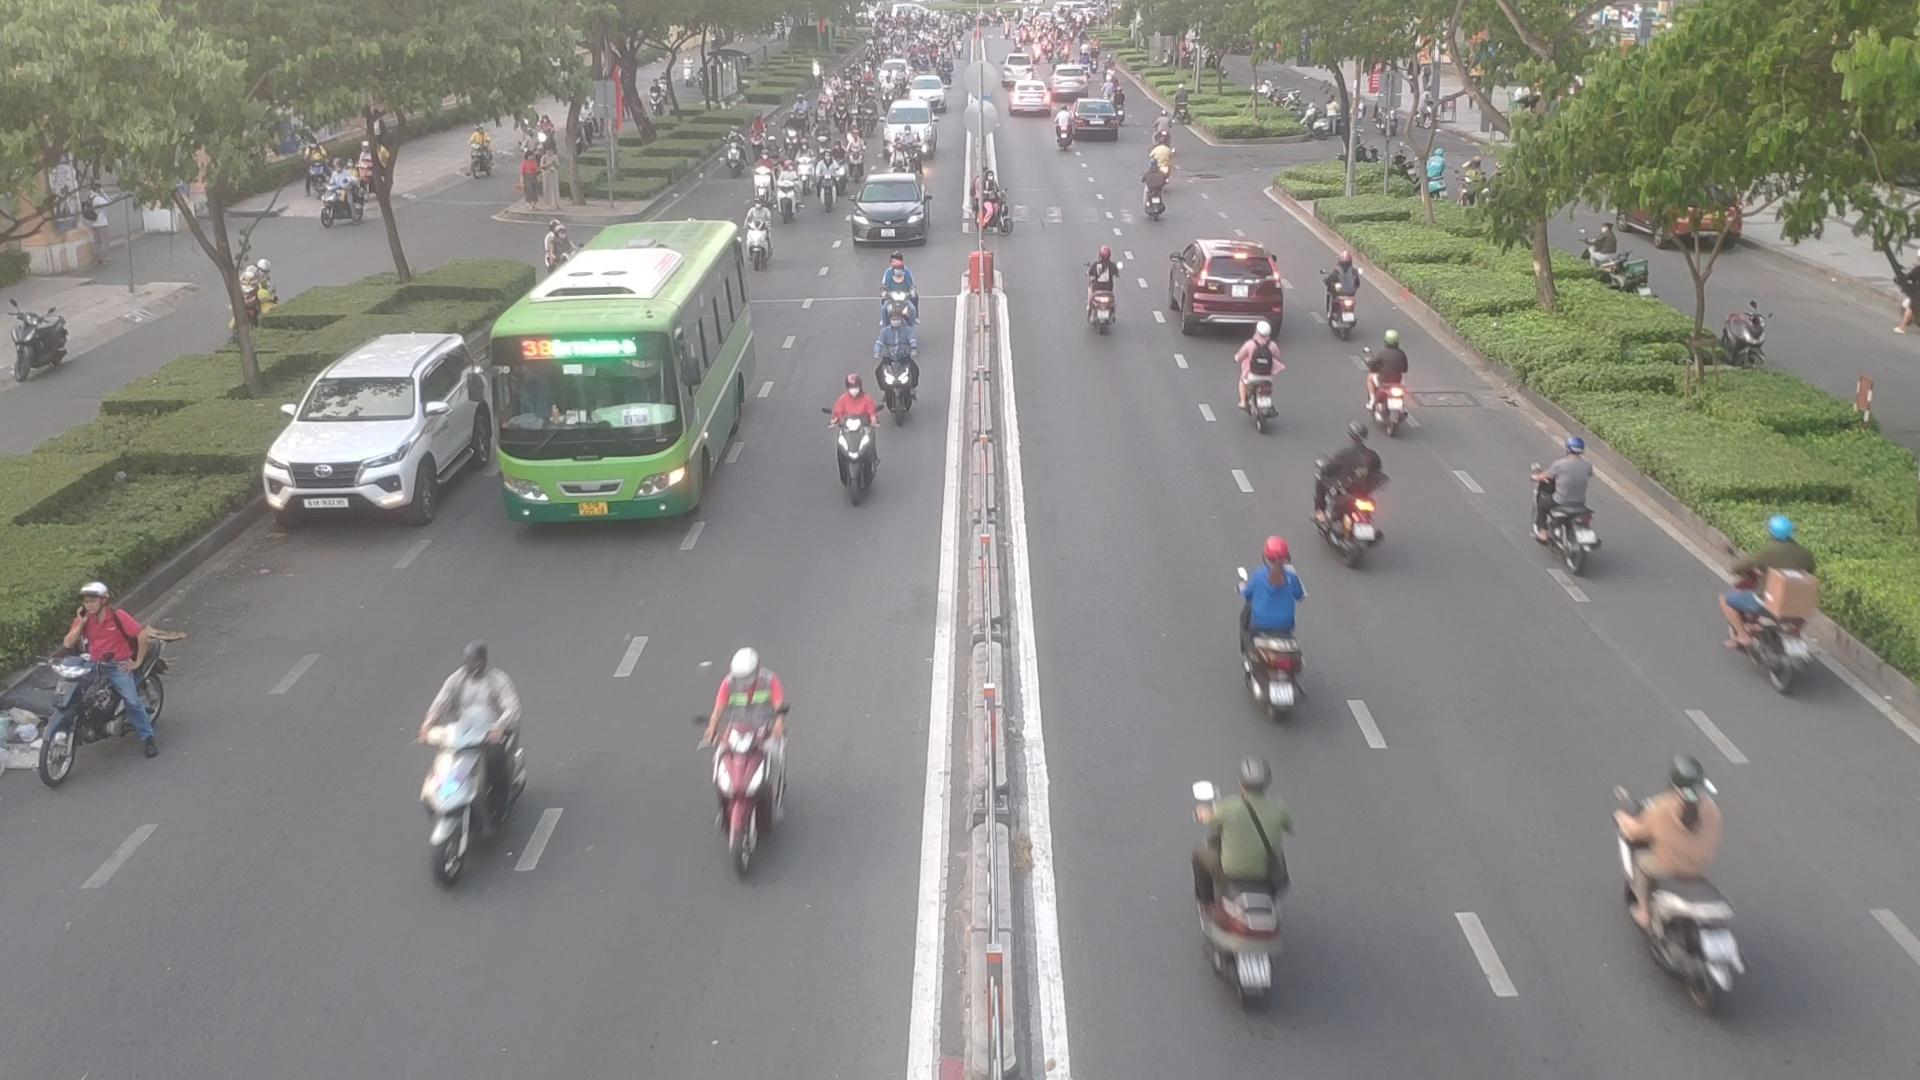car: (487, 228, 762, 533), (266, 332, 516, 527), (1164, 240, 1284, 338), (844, 174, 930, 248)
motorbike: (1615, 741, 1762, 1009), (1174, 750, 1309, 1025), (407, 650, 530, 884), (1706, 520, 1873, 688), (22, 585, 167, 771), (690, 651, 793, 869), (1229, 550, 1317, 702), (1307, 429, 1387, 560), (1534, 438, 1611, 567), (823, 380, 891, 500), (1230, 319, 1288, 426), (1364, 331, 1422, 431), (876, 306, 919, 417), (1321, 258, 1375, 344), (1075, 249, 1125, 338), (769, 175, 800, 222), (1146, 164, 1164, 223)
